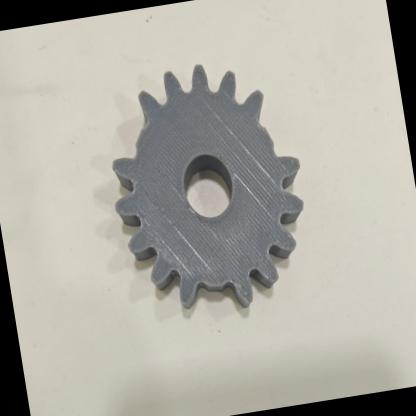defect: (90, 81, 182, 196), (236, 80, 313, 186)
gear: (49, 19, 357, 348)
